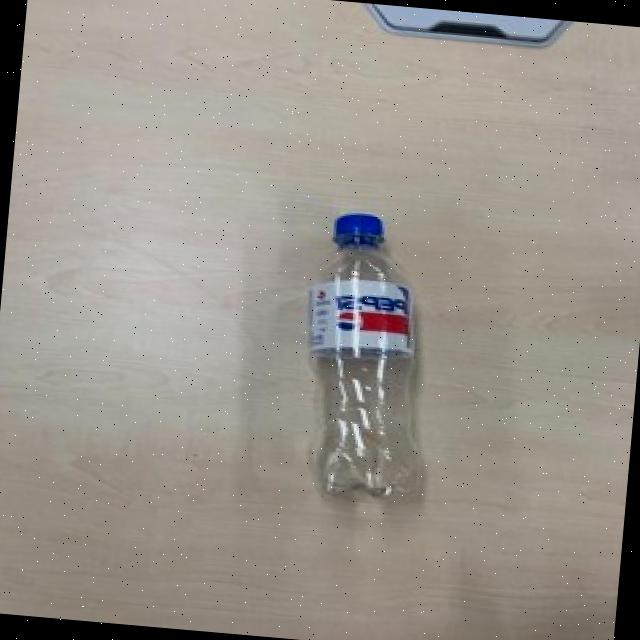bottle: (289, 200, 446, 514)
cap: (329, 209, 396, 256)
label: (289, 268, 428, 368)
